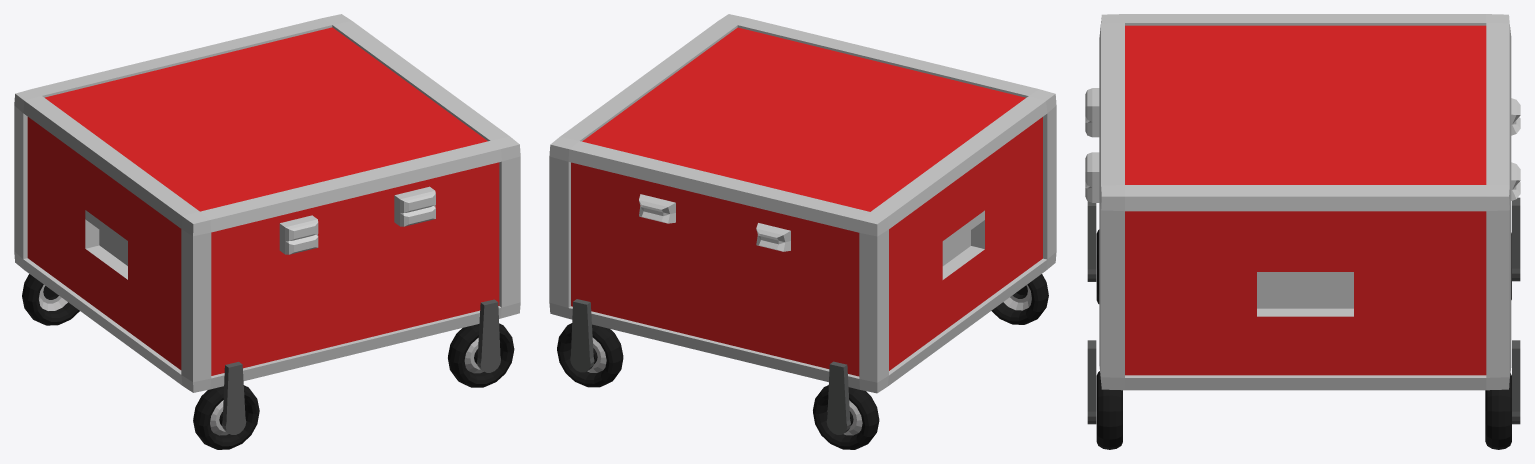
File: SmallWheelBox 1.fbx
The picture shows the model from 3 angles, left to right: view 1: azimuth 30°, elevation 25°; view 2: azimuth 150°, elevation 25°; view 3: azimuth 270°, elevation 25°; orthographic projection. The views are drawn at different scales.
Visible parts, largest first — view 1: SmallWheelBox; view 2: SmallWheelBox; view 3: SmallWheelBox.
Part boxes in pixels (x1,y1,x2,y2): SmallWheelBox: (14,14,520,449); SmallWheelBox: (549,14,1056,449); SmallWheelBox: (1085,14,1520,449).
Bounding box in the file's own units: 100 × 68.47 × 100.
